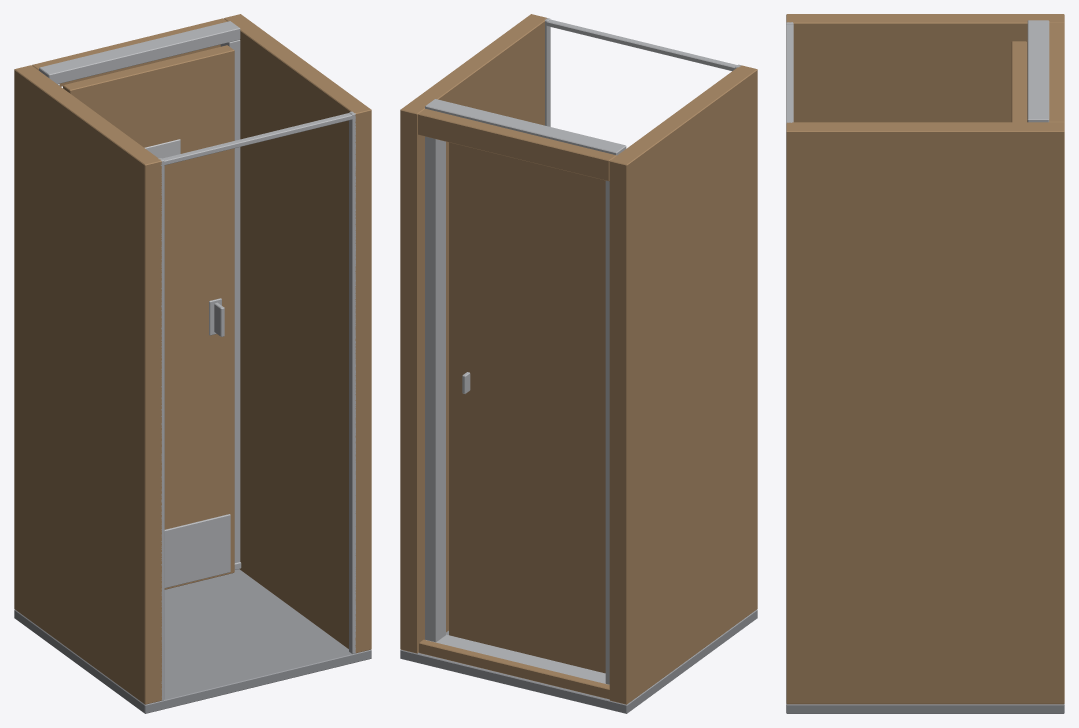
The model's file is prop_backstock_door_01.glb.
3 renders of one model, left to right at view 1: azimuth 30°, elevation 25°; view 2: azimuth 150°, elevation 25°; view 3: azimuth 270°, elevation 25°, orthographic. The views are drawn at different scales.
Parts seen in each view (by area): view 1: prop_backstock_door_01; view 2: prop_backstock_door_01; view 3: prop_backstock_door_01.
Part boxes in pixels (bbox=[...]): prop_backstock_door_01: bbox=[14, 14, 371, 713]; prop_backstock_door_01: bbox=[400, 14, 757, 713]; prop_backstock_door_01: bbox=[786, 14, 1064, 713].
Size of the model in its own units: 0.9 by 2.09 by 0.9.
